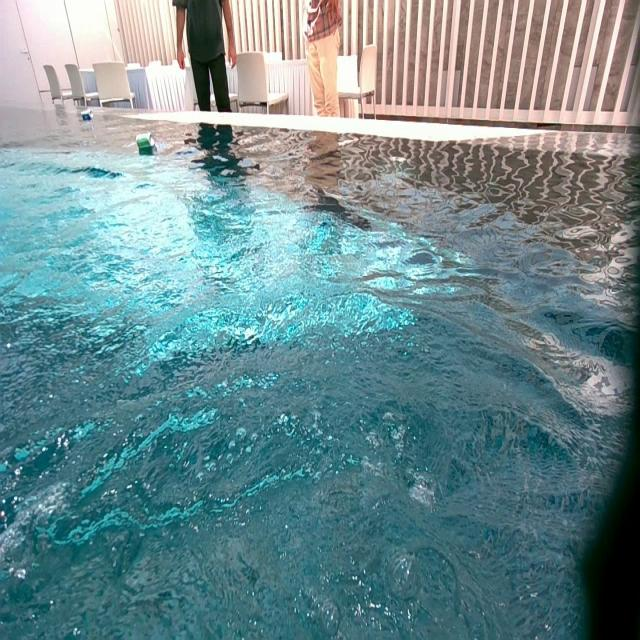Cans: (137, 134, 155, 153), (81, 110, 92, 120)
